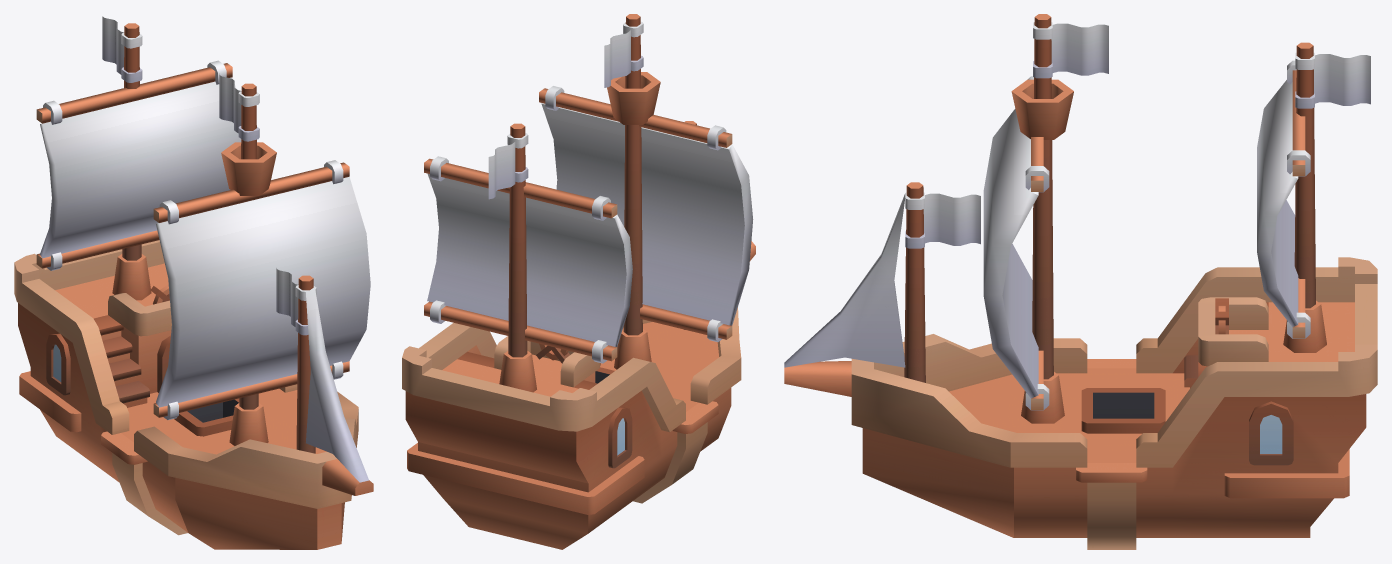
The model's file is ship-small-transformed.glb.
The picture shows the model from 3 angles, left to right: view 1: azimuth 30°, elevation 25°; view 2: azimuth 150°, elevation 25°; view 3: azimuth 270°, elevation 25°; orthographic projection. The views are drawn at different scales.
Parts seen in each view (by area): view 1: ship-small, sail-a, sail-b, flag-b, flag-c, flag-a; view 2: ship-small, sail-a, sail-b, flag-c, flag-b; view 3: ship-small, sail-a, sail-b, flag-b, flag-a, flag-c.
Boxes of the visible parts, x1=… form: ship-small: x1=14, y1=23, x2=373, y2=549; sail-a: x1=153, y1=160, x2=370, y2=419; sail-b: x1=36, y1=60, x2=241, y2=270; flag-b: x1=219, y1=73, x2=259, y2=141; flag-c: x1=102, y1=16, x2=142, y2=82; flag-a: x1=276, y1=268, x2=316, y2=335; ship-small: x1=402, y1=14, x2=755, y2=549; sail-a: x1=539, y1=86, x2=753, y2=341; sail-b: x1=424, y1=156, x2=632, y2=363; flag-c: x1=488, y1=133, x2=528, y2=199; flag-b: x1=604, y1=21, x2=643, y2=87; ship-small: x1=784, y1=14, x2=1377, y2=549; sail-a: x1=983, y1=76, x2=1049, y2=410; sail-b: x1=1257, y1=60, x2=1310, y2=338; flag-b: x1=1033, y1=22, x2=1108, y2=78; flag-a: x1=905, y1=192, x2=980, y2=248; flag-c: x1=1295, y1=52, x2=1370, y2=108.
Size of the model in its own units: 4.8 by 9.96 by 10.6.
1 material, 1 textured.
